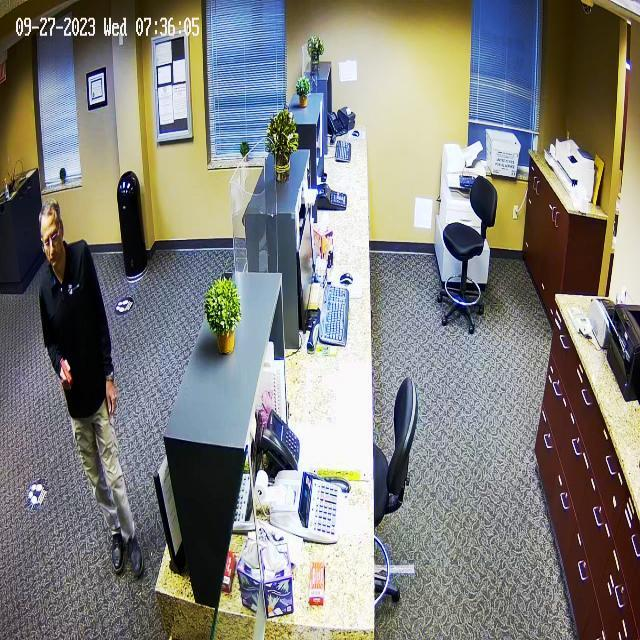Gun: (50, 356, 83, 395)
